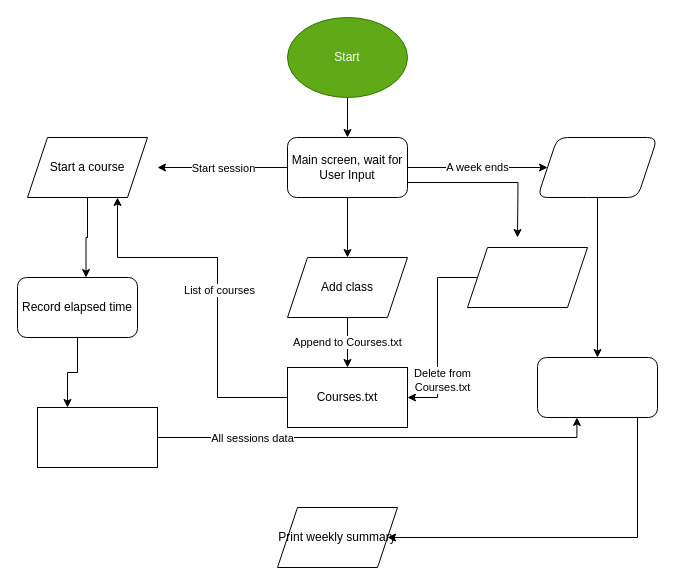
The diagram is 675 pixels wide and 585 high, and some of its shapes have lost their labels. The box of each missing label's shape, as (x1, y1, x2, y2) in pixels:
Delete class: (466, 246, 588, 308)
Filter for this week, summarize the time per class: (536, 356, 658, 418)
Sessions.csv: (36, 406, 158, 468)
Weekly report:: (536, 136, 658, 198)
